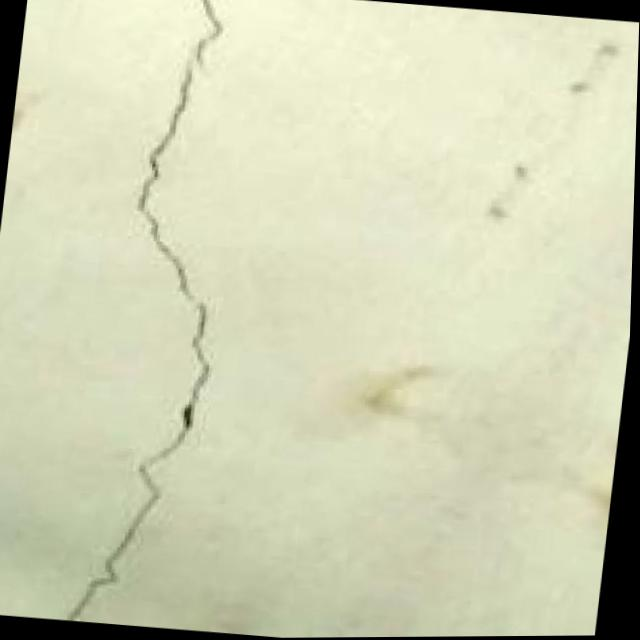Crack: (52, 0, 260, 631)
